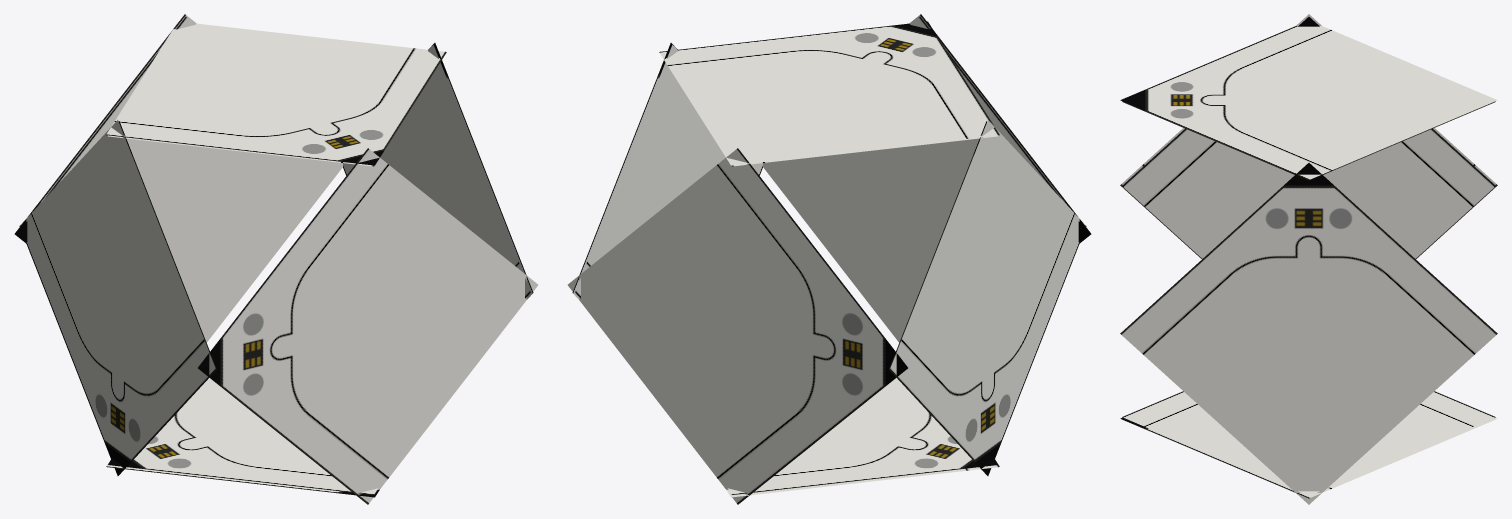
Rendered from Cuboct_3cm.fbx.
3 views of the same model, side by side, from view 1: azimuth 30°, elevation 25°; view 2: azimuth 150°, elevation 25°; view 3: azimuth 270°, elevation 25° (orthographic). The views are drawn at different scales.
Parts seen in each view (by area): view 1: Object_1; view 2: Object_1; view 3: Object_1.
Part boxes in pixels (box(x1,y1,x2,y2)): Object_1: box(14, 14, 538, 504); Object_1: box(567, 14, 1091, 504); Object_1: box(1120, 14, 1497, 504).
Size of the model in its own units: 0.0323 by 0.0323 by 0.0323.
Materials: 1 (1 with a texture image).
